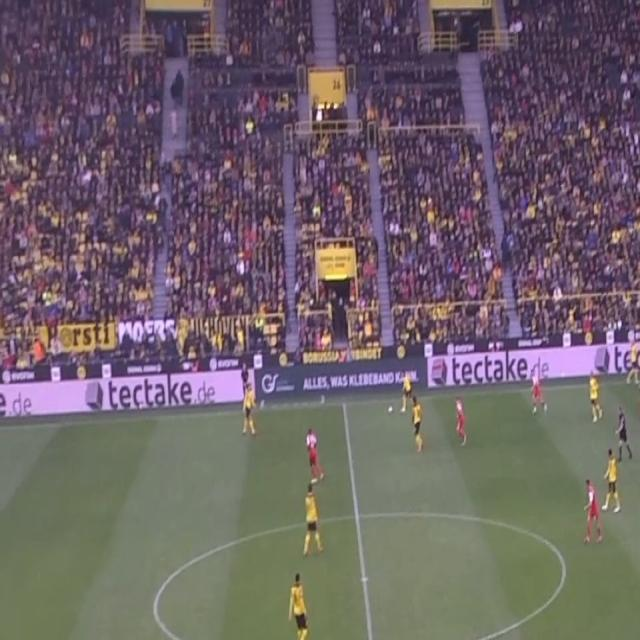ball: (387, 404, 394, 415)
